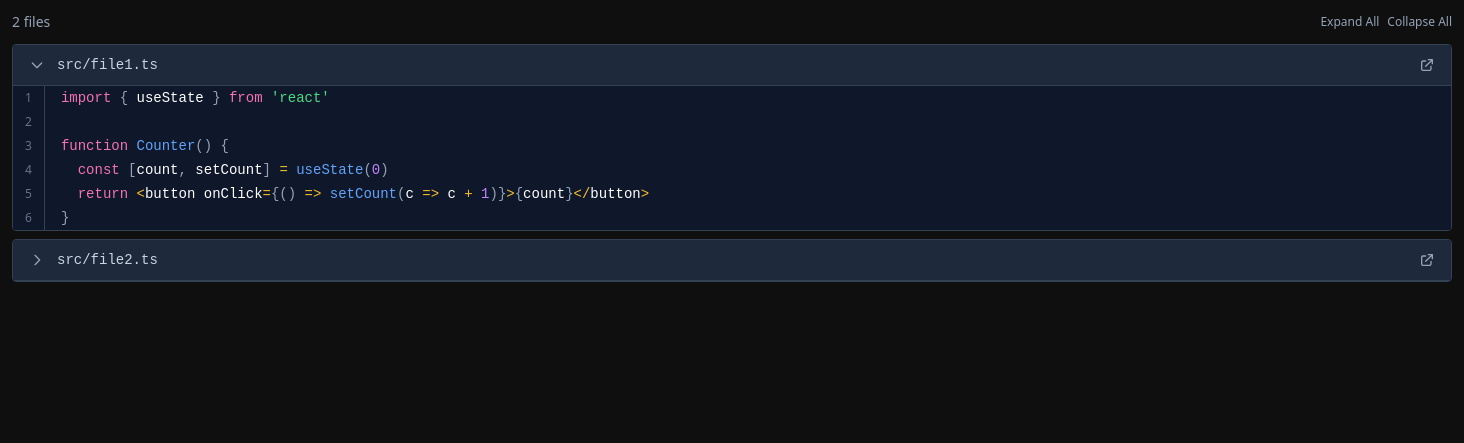
Test: FilePreviewList › Lazy Loading › should load content when a collapsed file is expanded
Expected: the number of elements with test id "code-preview" is 2, left=12, top=44, right=1452, bottom=231; left=12, top=239, right=1452, bottom=282
Note: Expand the second file
Click the 2nd button with test id "code-preview-toggle" at (37, 260), box left=25, top=248, right=49, bottom=272
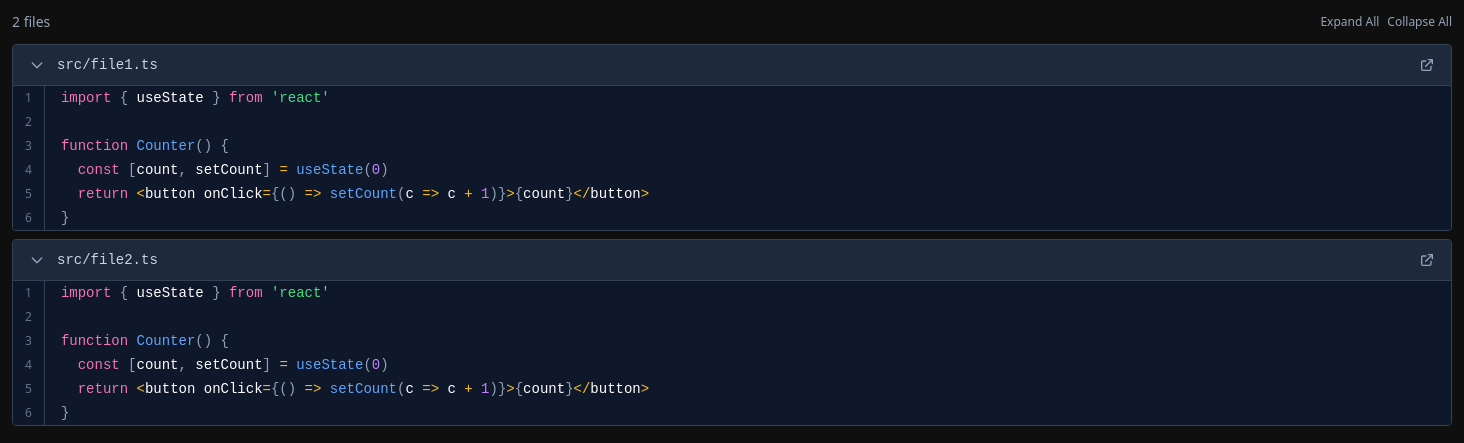
Result: the 2nd element with test id "code-preview-content" is shown at left=13, top=281, right=1451, bottom=425
